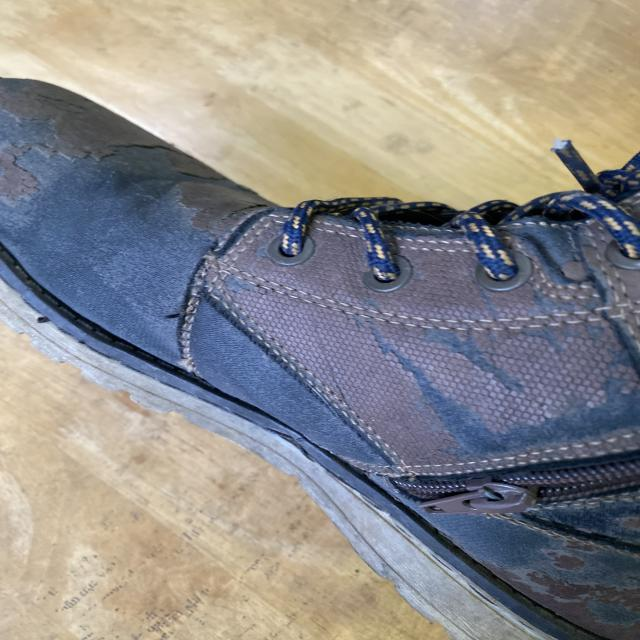broken-error: (152, 297, 196, 333), (162, 348, 210, 381)
